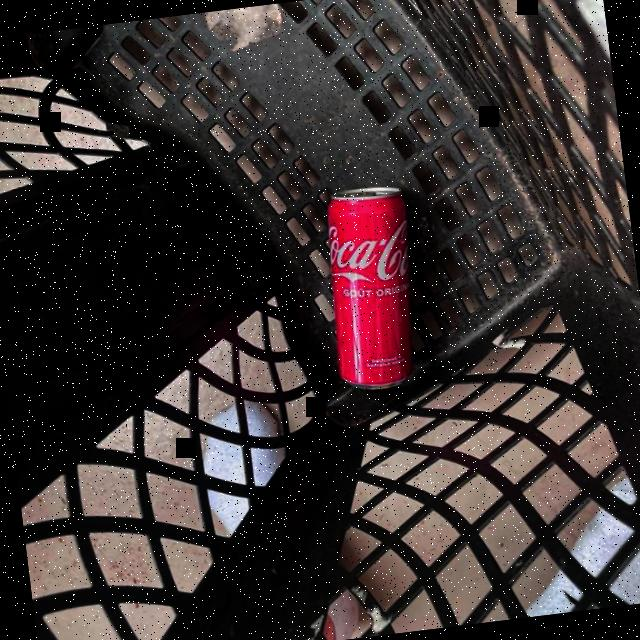can: (316, 175, 428, 408)
